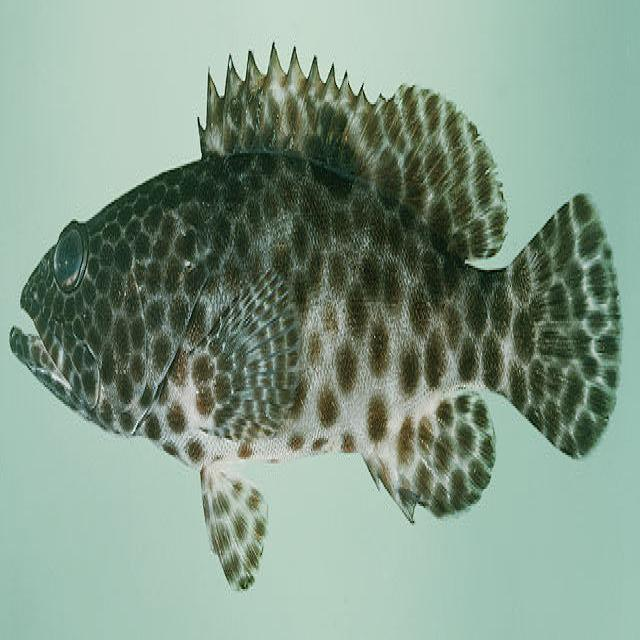ikan: (8, 41, 622, 594)
